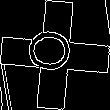O_E: (28, 31, 82, 79)
